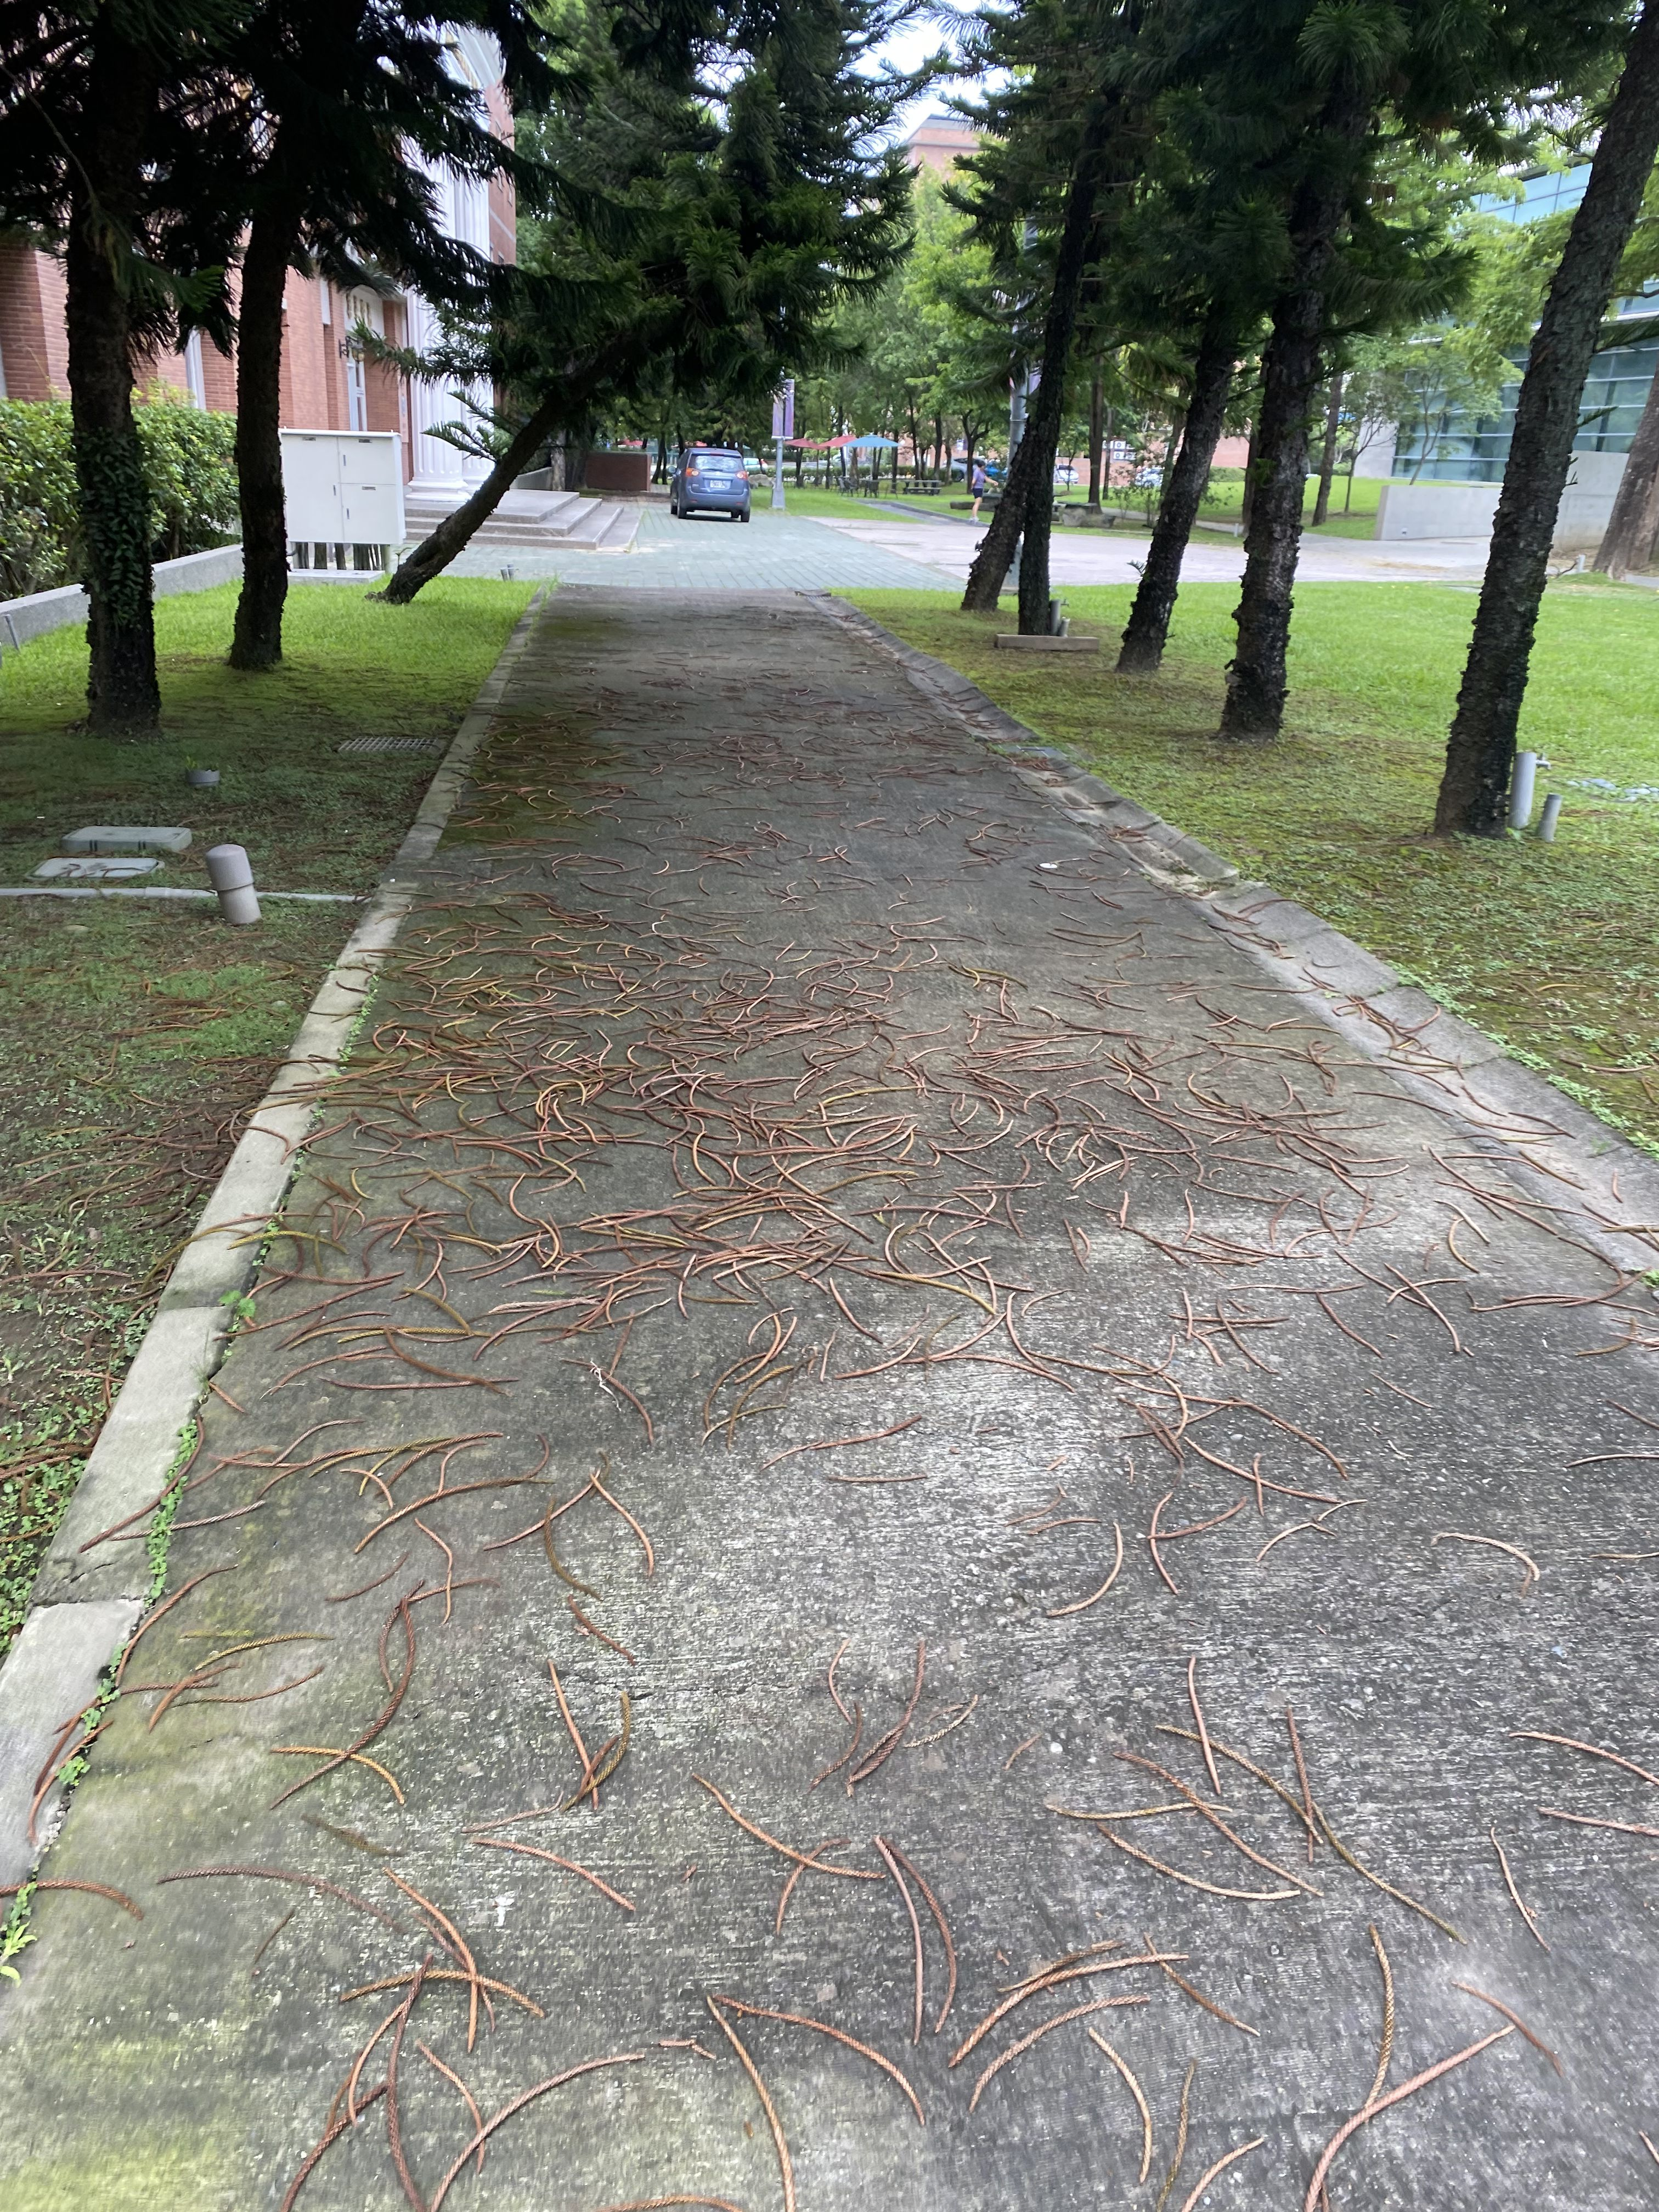sidewalk: (0, 533, 1659, 2207)
